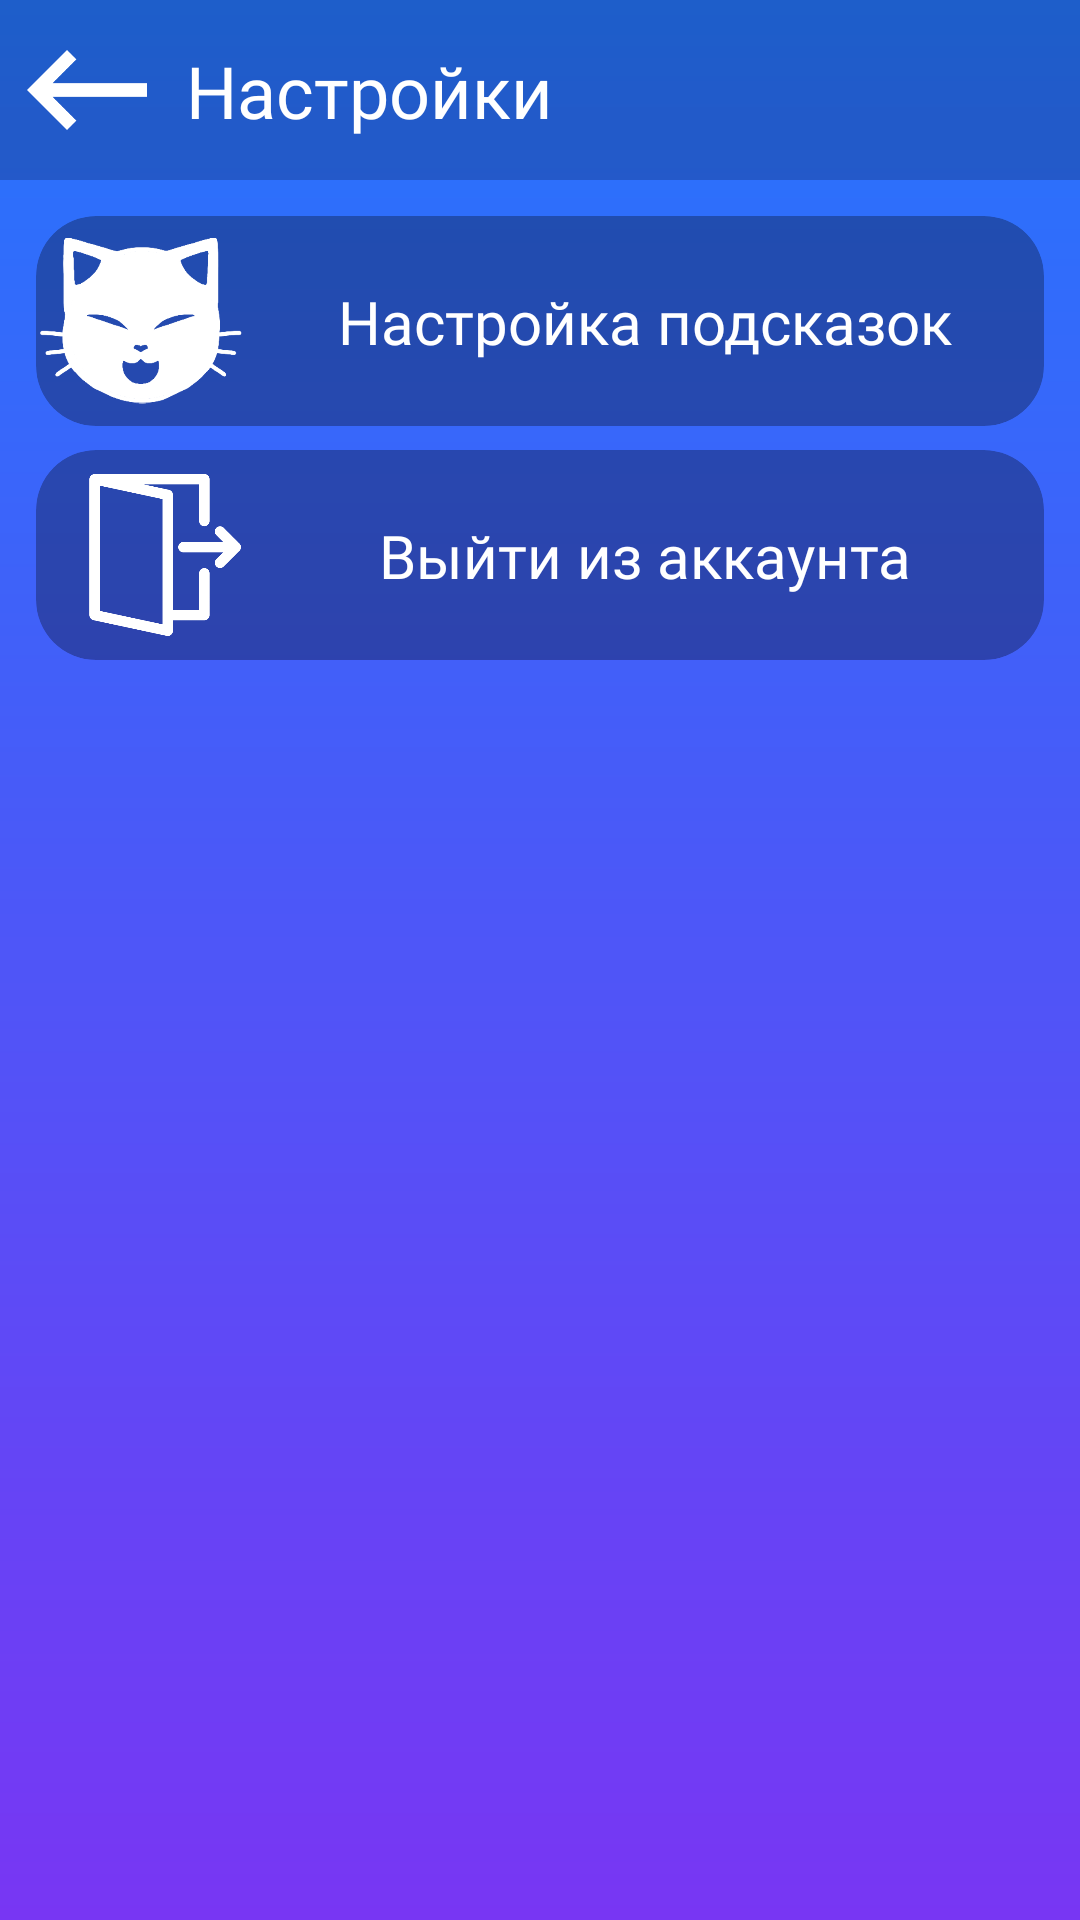

Icon click points for this 1080x1920 phone screenshot, format point (x, y):
back: point (87, 90)
